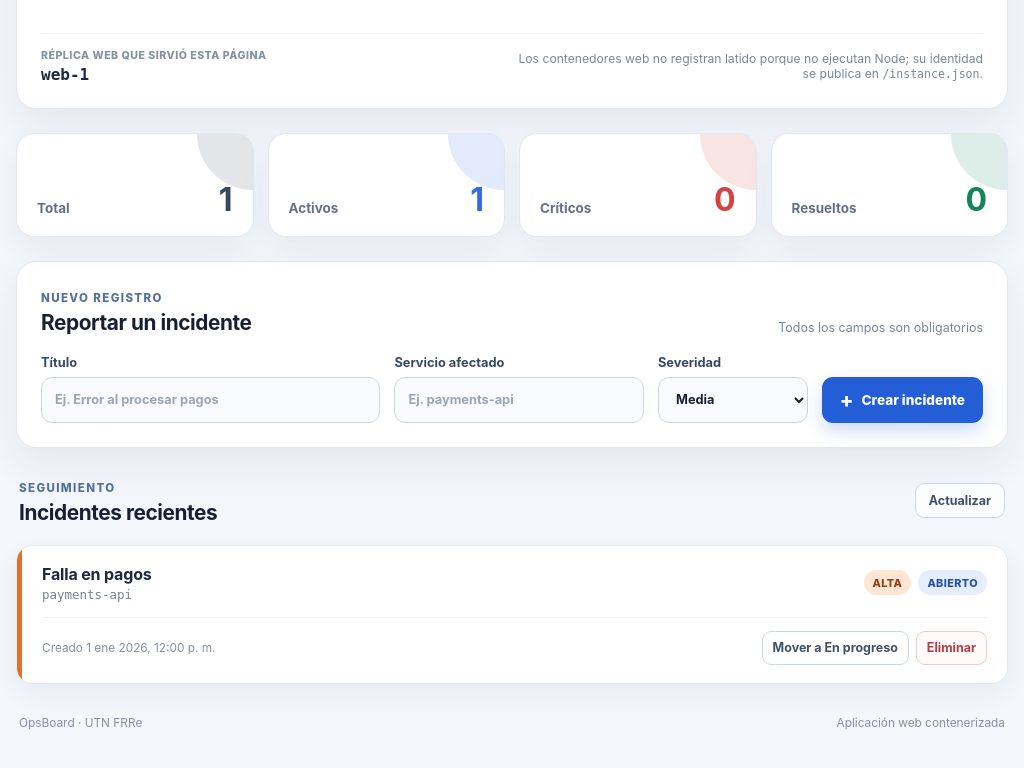
Test case: OpsBoard › moves an incident to its next status
(page scrolled)
Click the button "Mover a En progreso": (835, 648) [762, 631, 909, 665]
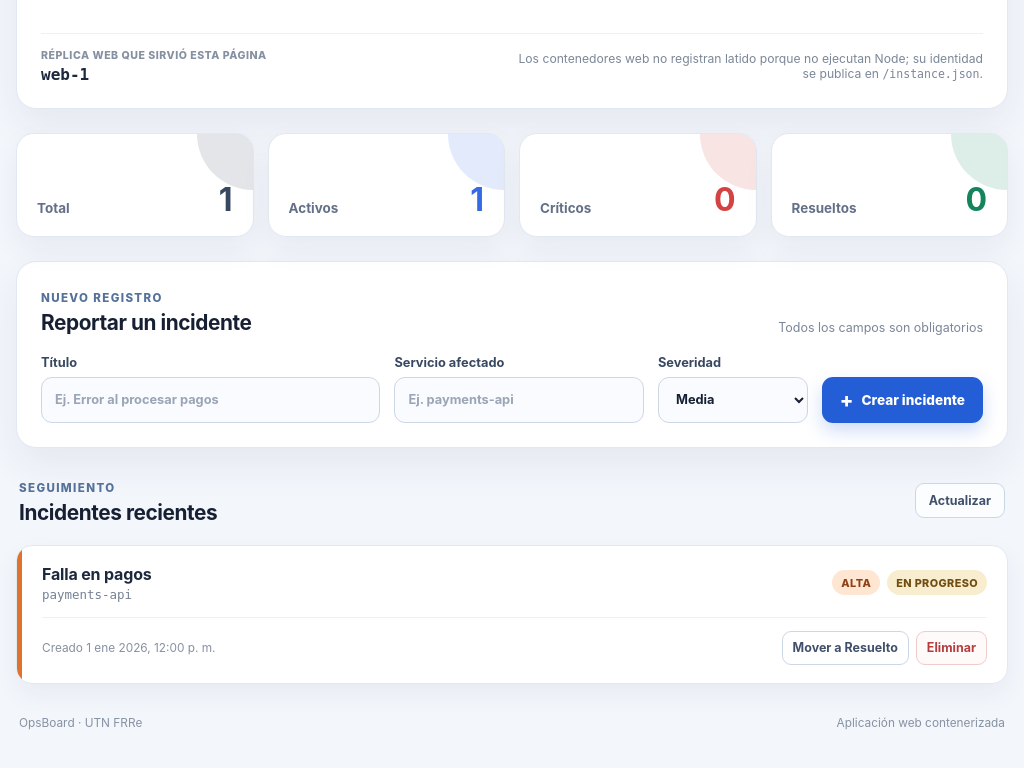
Expected: the text "En progreso" is shown, [887, 570, 987, 595]
